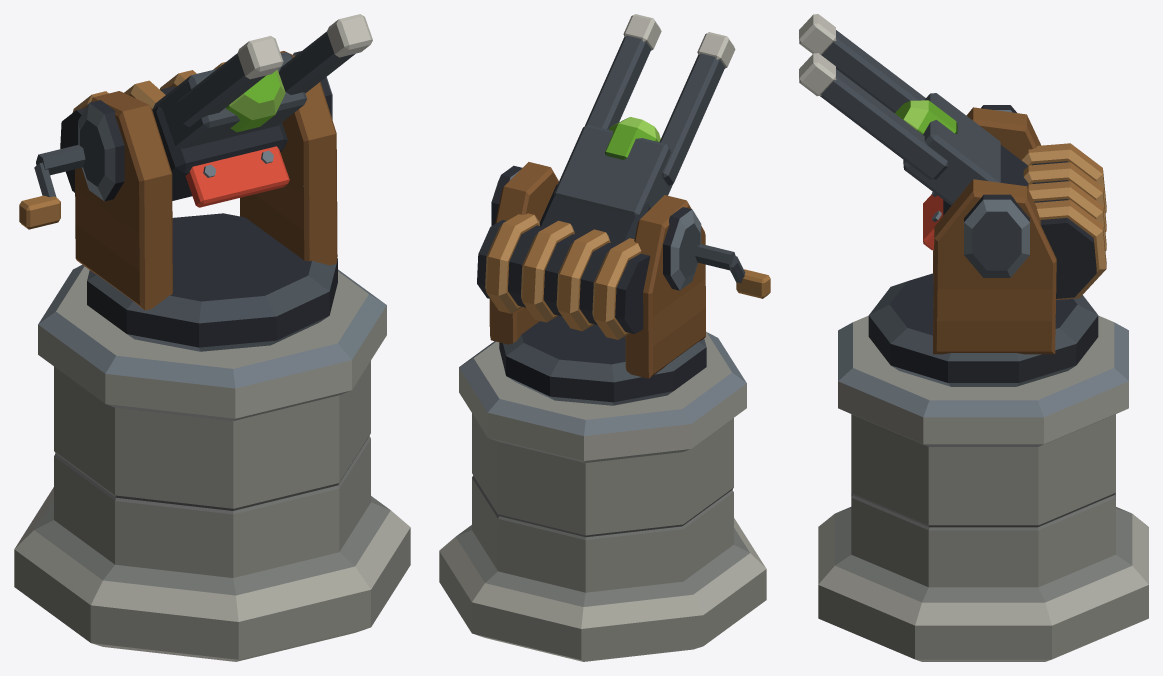
Rendered from lv1_anti-aerien.glb.
The picture shows the model from 3 angles, left to right: view 1: azimuth 30°, elevation 25°; view 2: azimuth 150°, elevation 25°; view 3: azimuth 270°, elevation 25°; orthographic projection. The views are drawn at different scales.
Parts seen in each view (by area): view 1: Base, Turret_Yaw, Barrel_Recoil, Team_Panels; view 2: Base, Barrel_Recoil, Turret_Yaw; view 3: Base, Turret_Yaw, Barrel_Recoil, Team_Panels.
Part boxes in pixels (x1,y1,x2,y2): Base: (14, 264, 410, 661); Turret_Yaw: (19, 51, 337, 351); Barrel_Recoil: (60, 14, 372, 200); Team_Panels: (185, 146, 289, 207); Base: (439, 331, 766, 661); Barrel_Recoil: (477, 14, 735, 339); Turret_Yaw: (489, 162, 770, 405); Base: (818, 315, 1148, 661); Turret_Yaw: (868, 105, 1098, 386); Barrel_Recoil: (799, 14, 1106, 300); Team_Panels: (923, 194, 943, 250).
Size of the model in its own units: 1.3 by 2.2 by 1.24.
